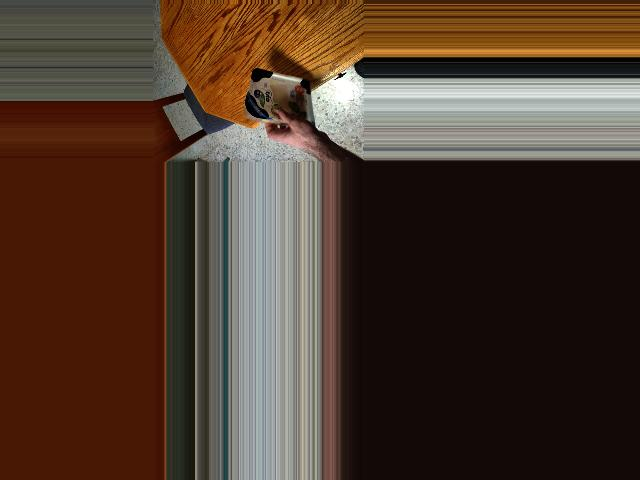cheese: (242, 72, 326, 128)
